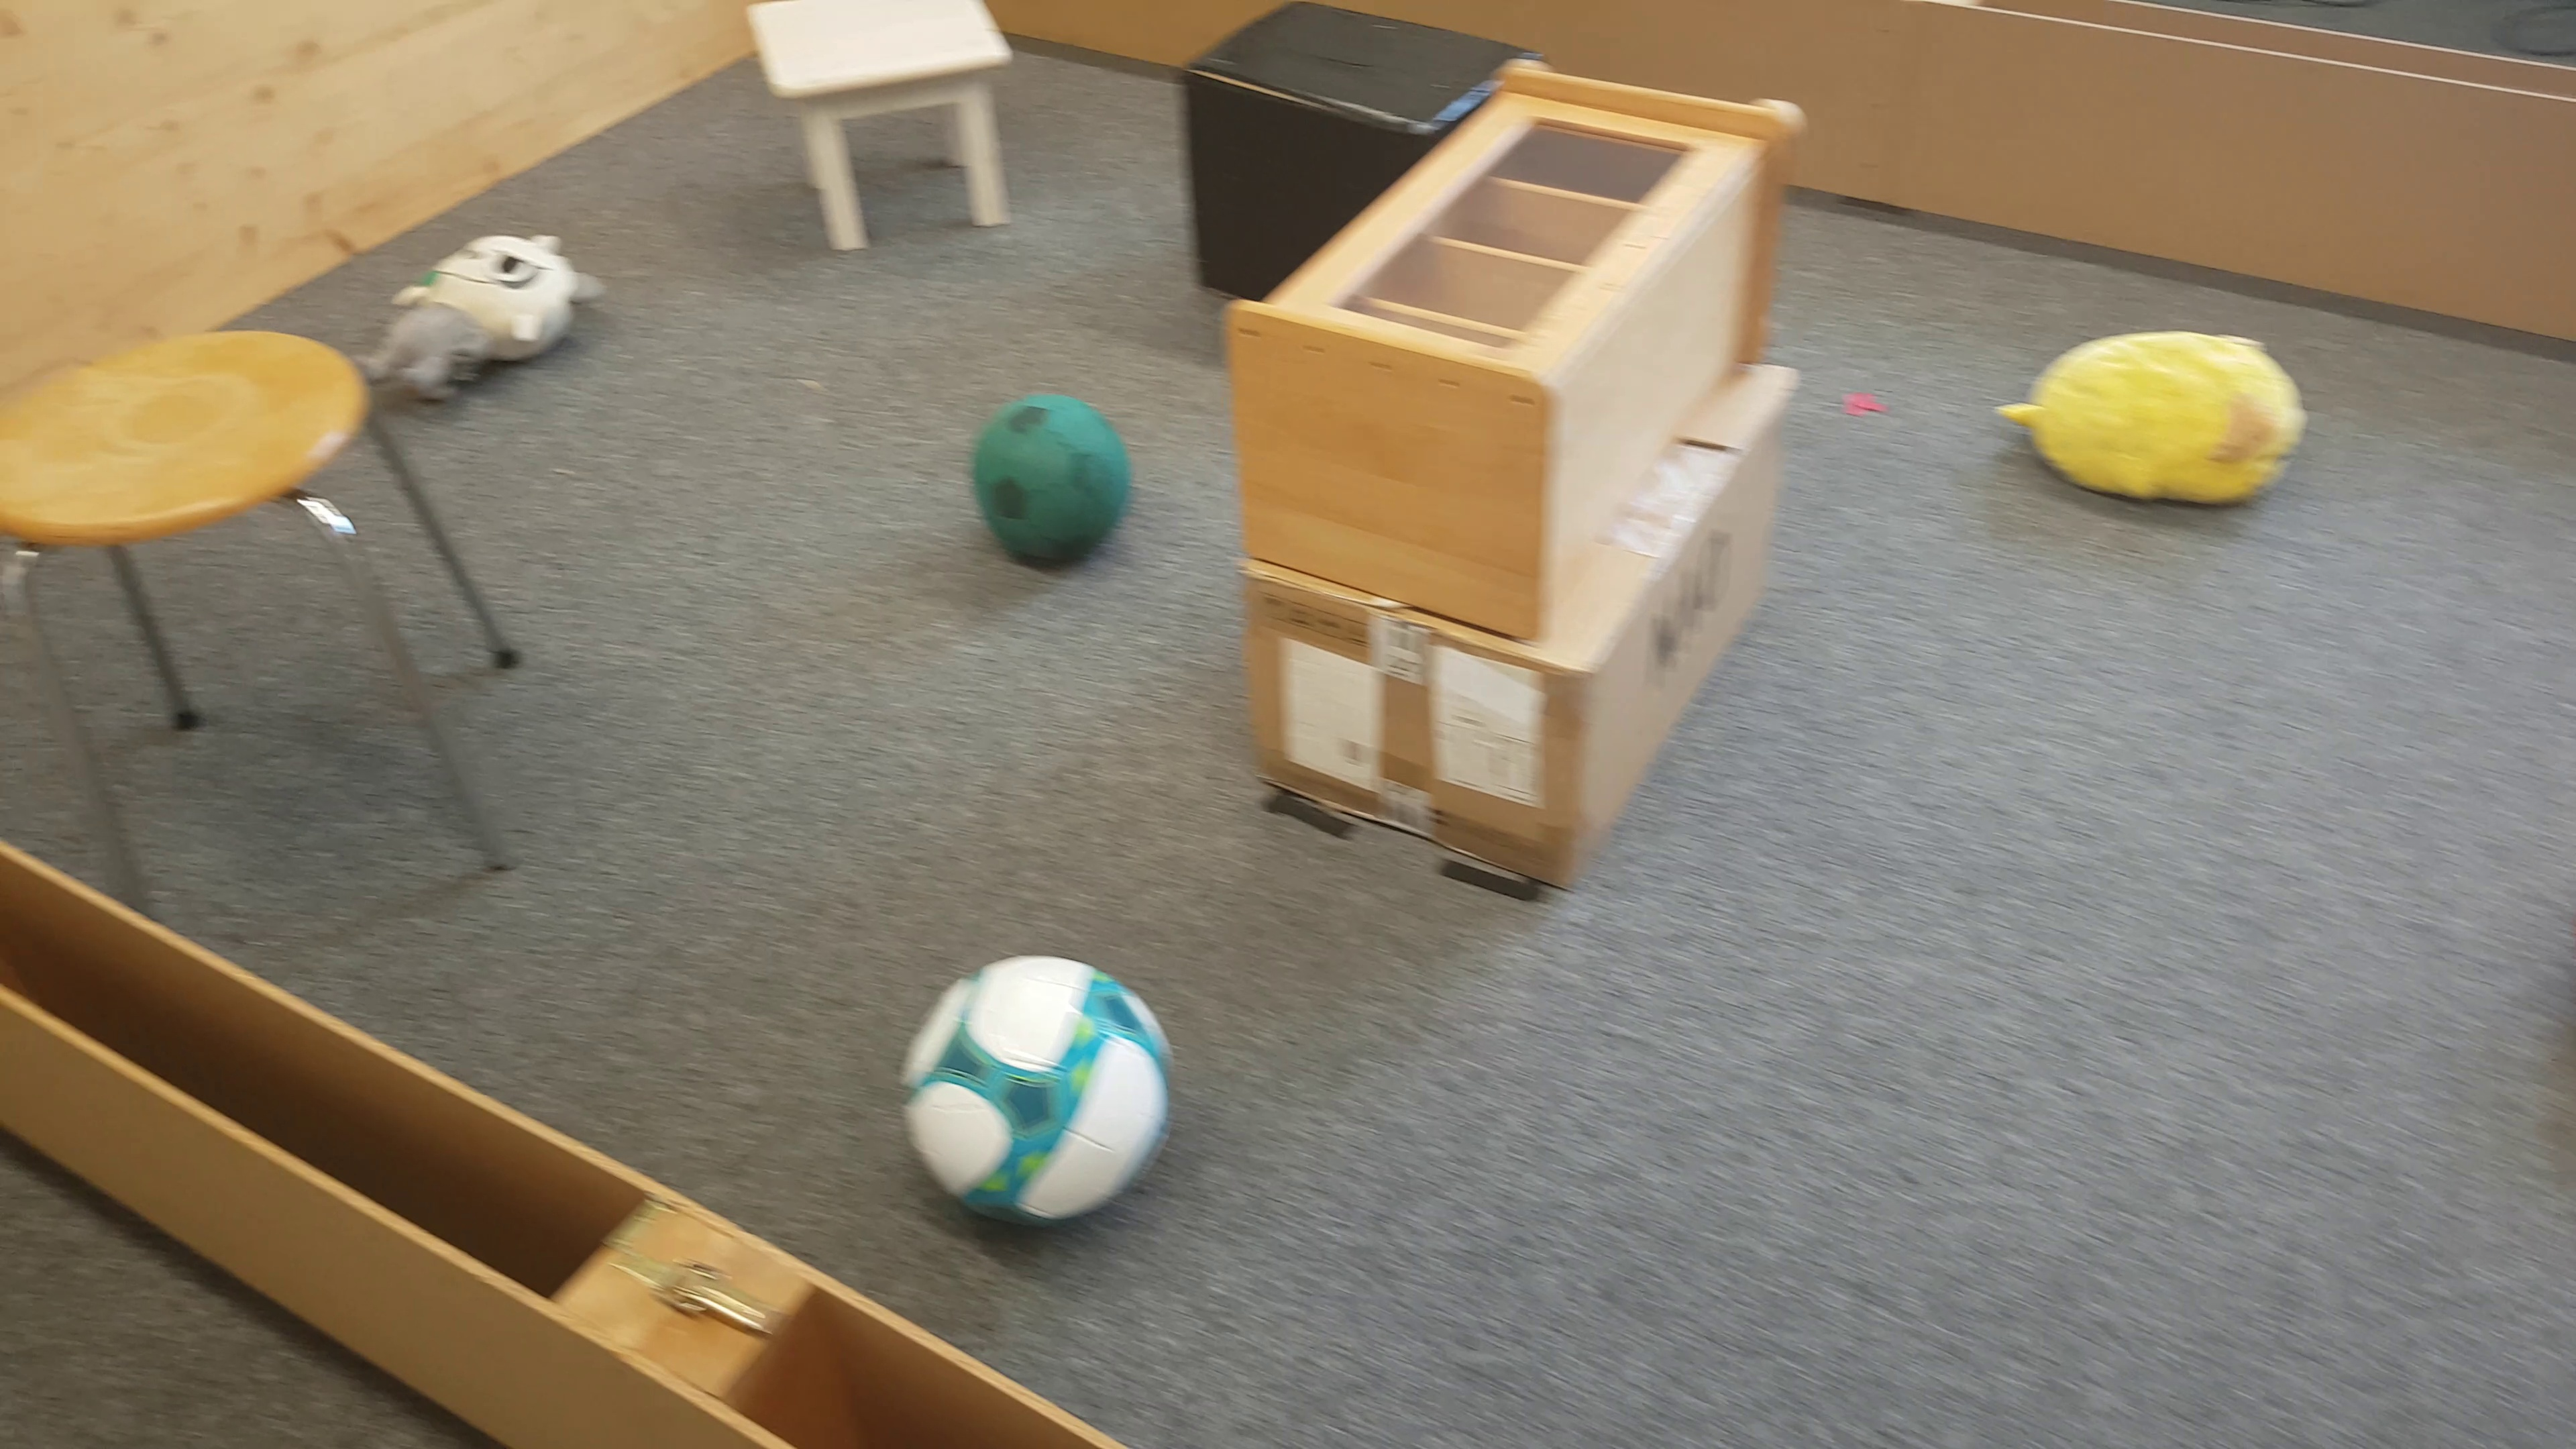grasp: (2001, 326, 2309, 508), (363, 221, 603, 407)
kick: (909, 952, 1180, 1230), (971, 398, 1141, 566)
push: (1182, 5, 1430, 152)
